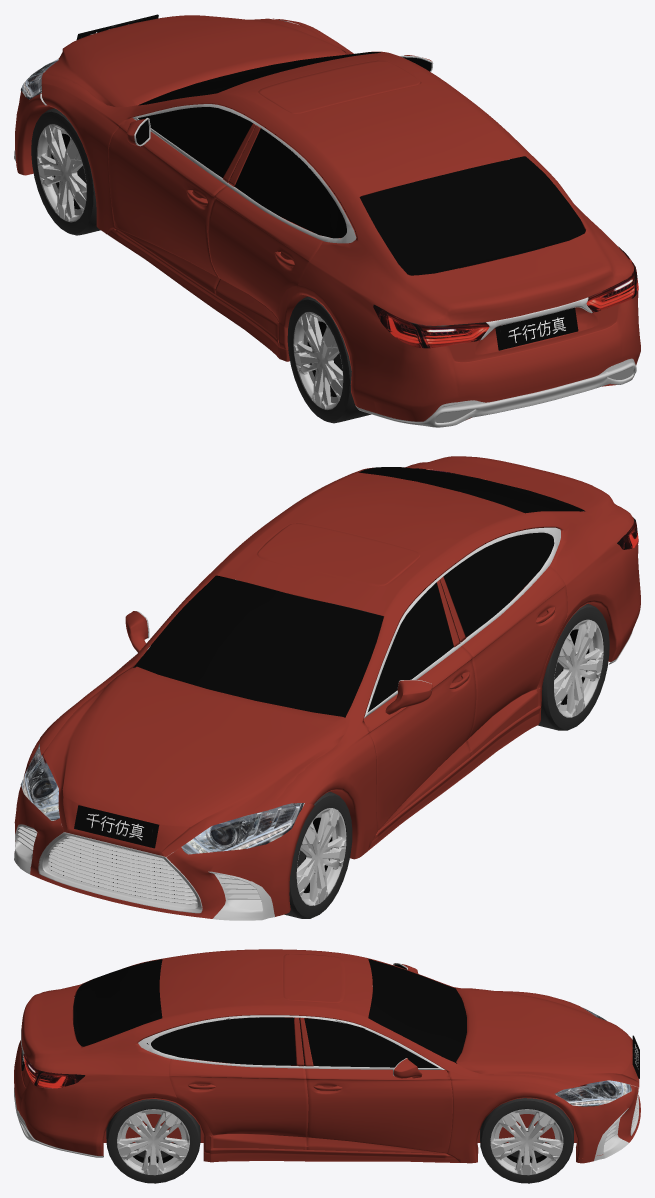
File: lexus.glb
3 renders of one model, top to bottom at view 1: azimuth 30°, elevation 25°; view 2: azimuth 150°, elevation 25°; view 3: azimuth 270°, elevation 25°, orthographic. The views are drawn at different scales.
Parts seen in each view (by area): view 1: lexus, carlight_license, lexus_back_left, lexus_front_left; view 2: lexus, carlight_license, lexus_back_left, lexus_front_left; view 3: lexus, lexus_front_right, lexus_back_right, carlight_license.
Boxes of the visible parts, <box> form: lexus: <box>14,15,640,427</box>; carlight_license: <box>21,14,638,350</box>; lexus_back_left: <box>287,296,371,423</box>; lexus_front_left: <box>31,108,100,235</box>; lexus: <box>14,456,640,920</box>; carlight_license: <box>20,468,638,854</box>; lexus_back_left: <box>538,603,609,730</box>; lexus_front_left: <box>284,791,352,918</box>; lexus: <box>14,949,640,1163</box>; lexus_front_right: <box>480,1098,573,1183</box>; lexus_back_right: <box>106,1099,200,1183</box>; carlight_license: <box>21,996,639,1106</box>.
Size of the model in its own units: 2.02 by 1.43 by 4.96.
Materials: 6 (1 with a texture image).
